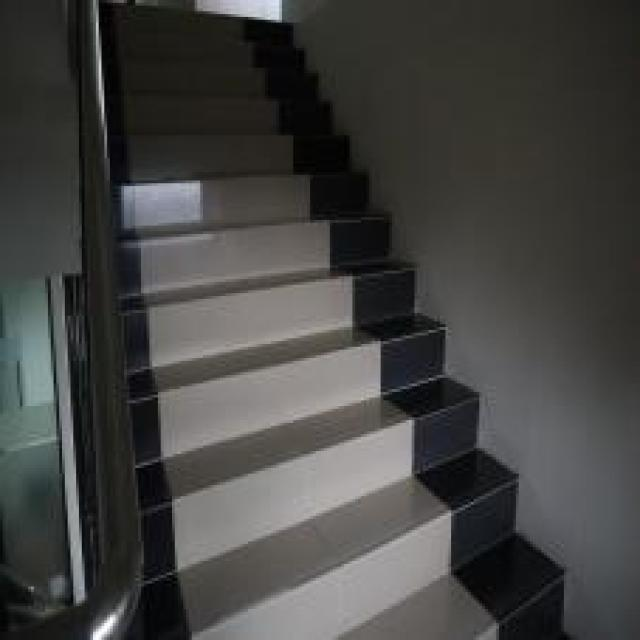upstair: (117, 75, 396, 416)
